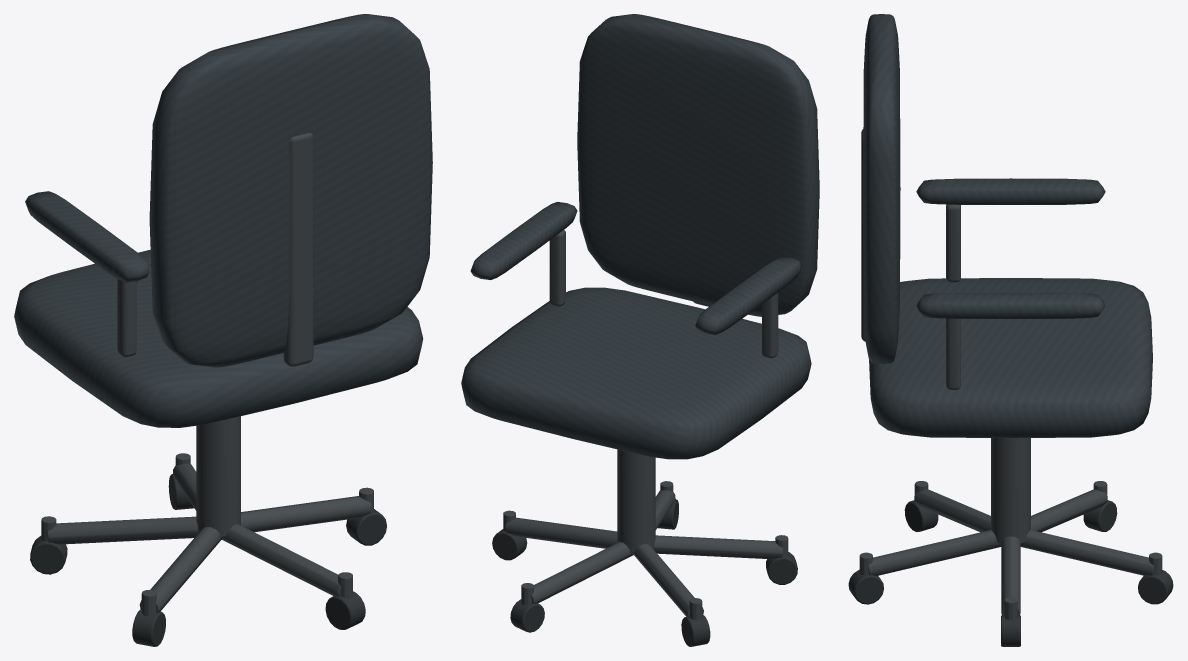
File: chair_v06a.glb
The picture shows the model from 3 angles, left to right: view 1: azimuth 30°, elevation 25°; view 2: azimuth 150°, elevation 25°; view 3: azimuth 270°, elevation 25°; orthographic projection. The views are drawn at different scales.
Parts seen in each view (by area): view 1: VIS_ChairUpholstery, VIS_ChairFrame, VIS_ChairSupportWheels; view 2: VIS_ChairUpholstery, VIS_ChairFrame, VIS_ChairSupportWheels; view 3: VIS_ChairUpholstery, VIS_ChairFrame, VIS_ChairSupportWheels.
Boxes of the visible parts, x1=… form: VIS_ChairUpholstery: x1=14, y1=14, x2=432, y2=427; VIS_ChairFrame: x1=41, y1=133, x2=373, y2=616; VIS_ChairSupportWheels: x1=30, y1=474, x2=386, y2=646; VIS_ChairUpholstery: x1=461, y1=14, x2=819, y2=459; VIS_ChairFrame: x1=503, y1=230, x2=788, y2=620; VIS_ChairSupportWheels: x1=492, y1=499, x2=797, y2=646; VIS_ChairUpholstery: x1=863, y1=14, x2=1152, y2=438; VIS_ChairFrame: x1=859, y1=129, x2=1162, y2=620; VIS_ChairSupportWheels: x1=848, y1=500, x2=1173, y2=646.
Bounding box in the file's own units: 0.5605 × 1.02 × 0.5662.
3 materials, 1 textured.
